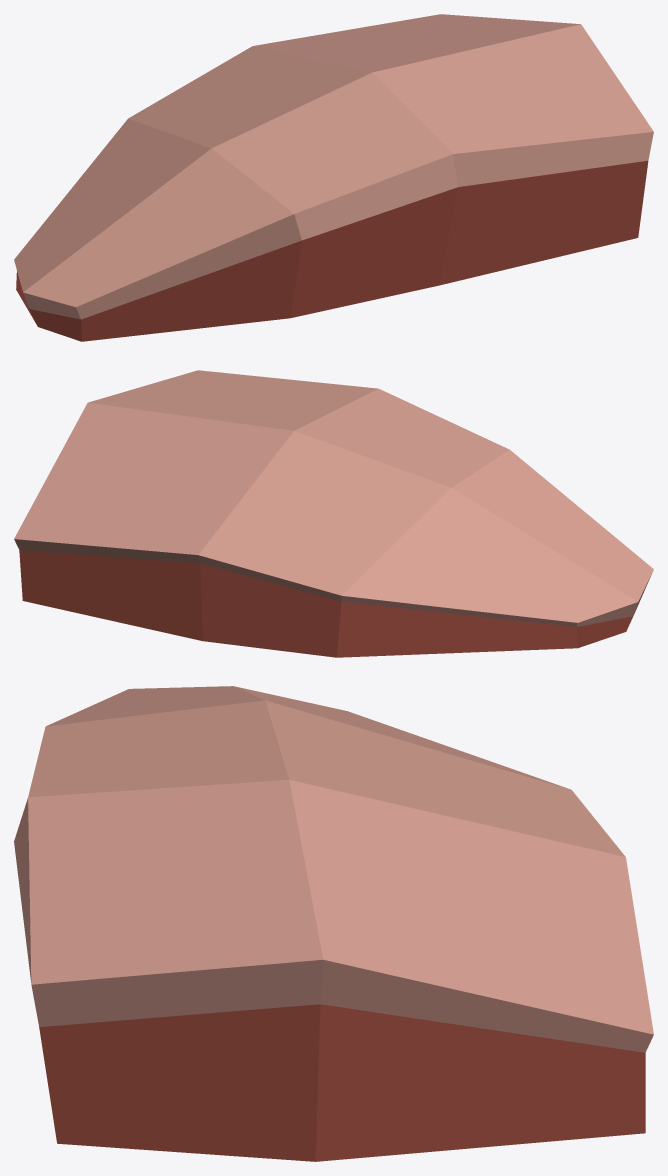
File: picanha.fbx
The picture shows the model from 3 angles, top to bottom: view 1: azimuth 30°, elevation 25°; view 2: azimuth 150°, elevation 25°; view 3: azimuth 270°, elevation 25°; orthographic projection. The views are drawn at different scales.
Visible parts, largest first — view 1: picanha; view 2: picanha; view 3: picanha.
Boxes of the visible parts, x1,y1,x2,y2 form: picanha: [14, 14, 653, 341]; picanha: [14, 370, 653, 657]; picanha: [14, 686, 653, 1161].
Bounding box in the file's own units: 49.71 × 12.41 × 31.58.
1 material, 1 textured.
